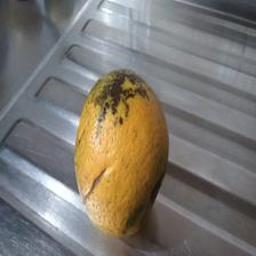Orange Semirotten: (68, 60, 173, 255)
